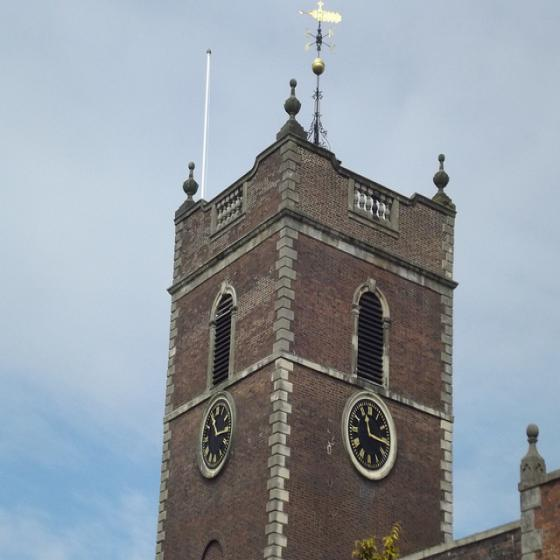clock: (345, 396, 392, 476), (202, 401, 231, 468)
